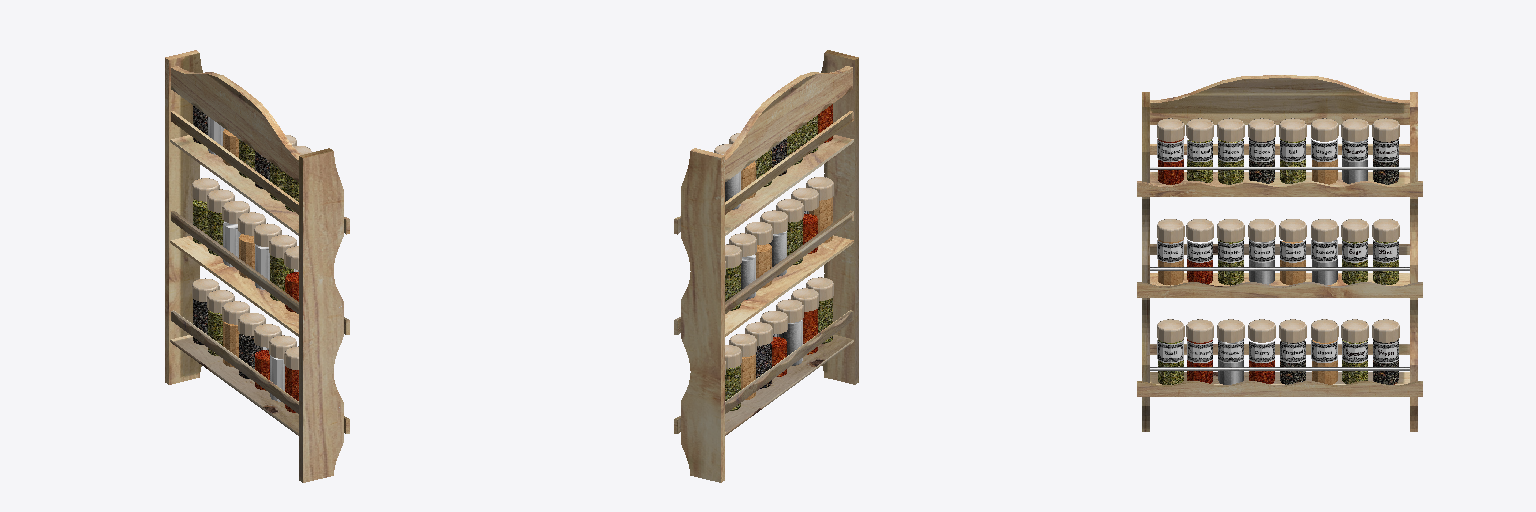
3 renders of one model, left to right at view 1: azimuth 30°, elevation 25°; view 2: azimuth 150°, elevation 25°; view 3: azimuth 270°, elevation 25°, orthographic.
Visible parts, largest first — view 1: prim17_prim17-mesh, prim18.006_prim18-mesh.006, prim18.005_prim18-mesh.005, prim18_prim18-mesh; view 2: prim17_prim17-mesh, prim18.006_prim18-mesh.006, prim18.005_prim18-mesh.005, prim18_prim18-mesh; view 3: prim17_prim17-mesh, prim18.005_prim18-mesh.005, prim18.004_prim18-mesh.004, prim18.006_prim18-mesh.006, prim18.002_prim18-mesh.002, prim18_prim18-mesh.
Boxes of the visible parts, x1,y1,x2,y2 form: prim17_prim17-mesh: [165, 50, 349, 482]; prim18.006_prim18-mesh.006: [193, 106, 298, 412]; prim18.005_prim18-mesh.005: [192, 126, 311, 369]; prim18_prim18-mesh: [208, 117, 284, 401]; prim17_prim17-mesh: [674, 50, 858, 482]; prim18.006_prim18-mesh.006: [725, 104, 832, 410]; prim18.005_prim18-mesh.005: [714, 133, 833, 374]; prim18_prim18-mesh: [725, 171, 802, 365]; prim17_prim17-mesh: [1137, 75, 1422, 431]; prim18.005_prim18-mesh.005: [1157, 118, 1399, 342]; prim18.004_prim18-mesh.004: [1157, 139, 1398, 362]; prim18.006_prim18-mesh.006: [1158, 138, 1398, 384]; prim18.002_prim18-mesh.002: [1150, 167, 1409, 370]; prim18_prim18-mesh: [1218, 138, 1367, 384].
Size of the model in its own units: 0.0731 by 0.5412 by 0.4104.
8 materials, 5 textured.